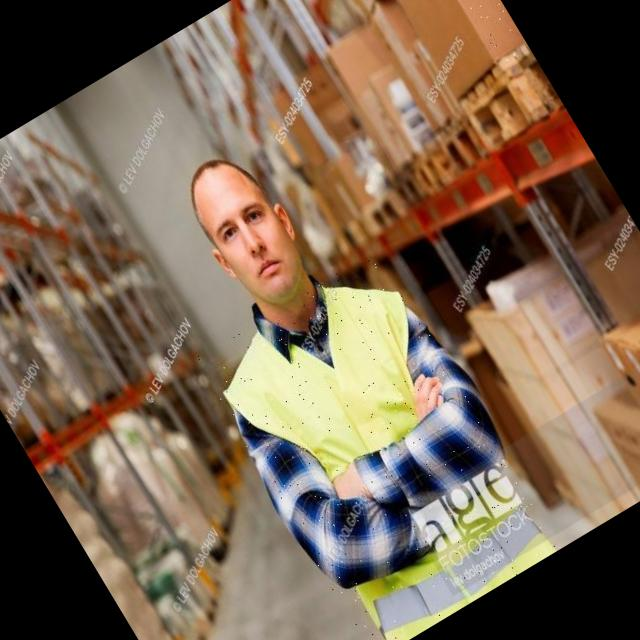safety_vest: (194, 247, 560, 640), (423, 0, 531, 67)
